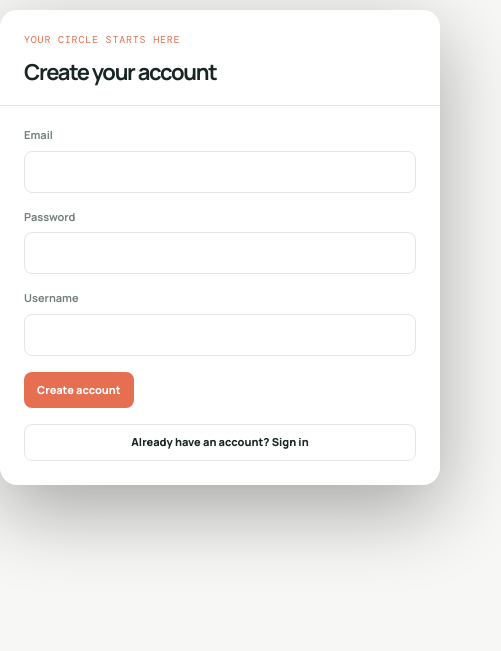
signup requiring confirmation does not open the feed
Type "new@example.com" into the field labelled "Email" at [220, 172], box 24,150 -> 416,192
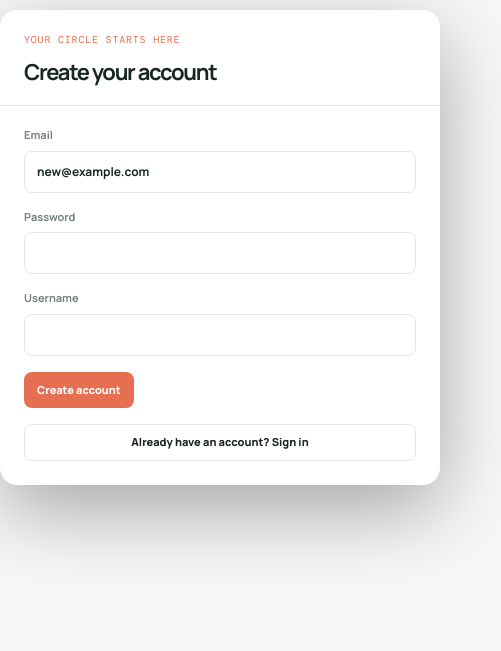
Type "example-password" into the password field labelled "Password" at [220, 253], box 24,232 -> 416,274
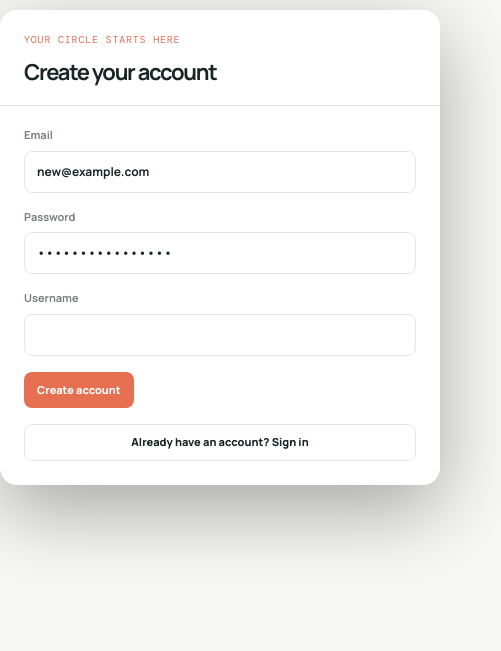
Type "new_user" into the field labelled "Username" at [220, 334], box 24,314 -> 416,356
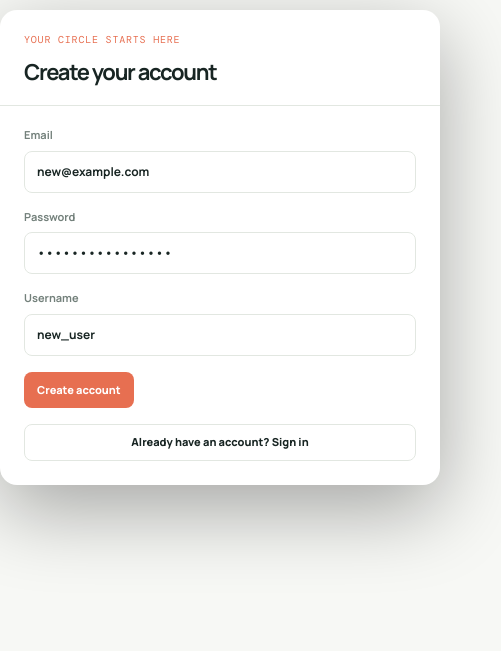
Submit the form, box 24,127 -> 416,460
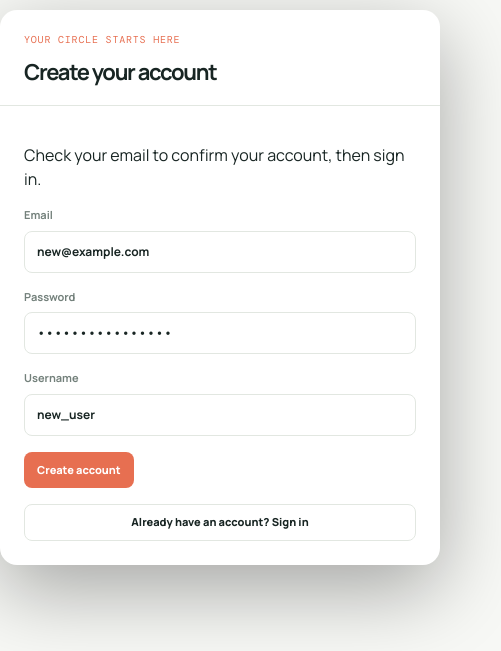
Now the message shows "Check your email", box 24,144 -> 404,190
